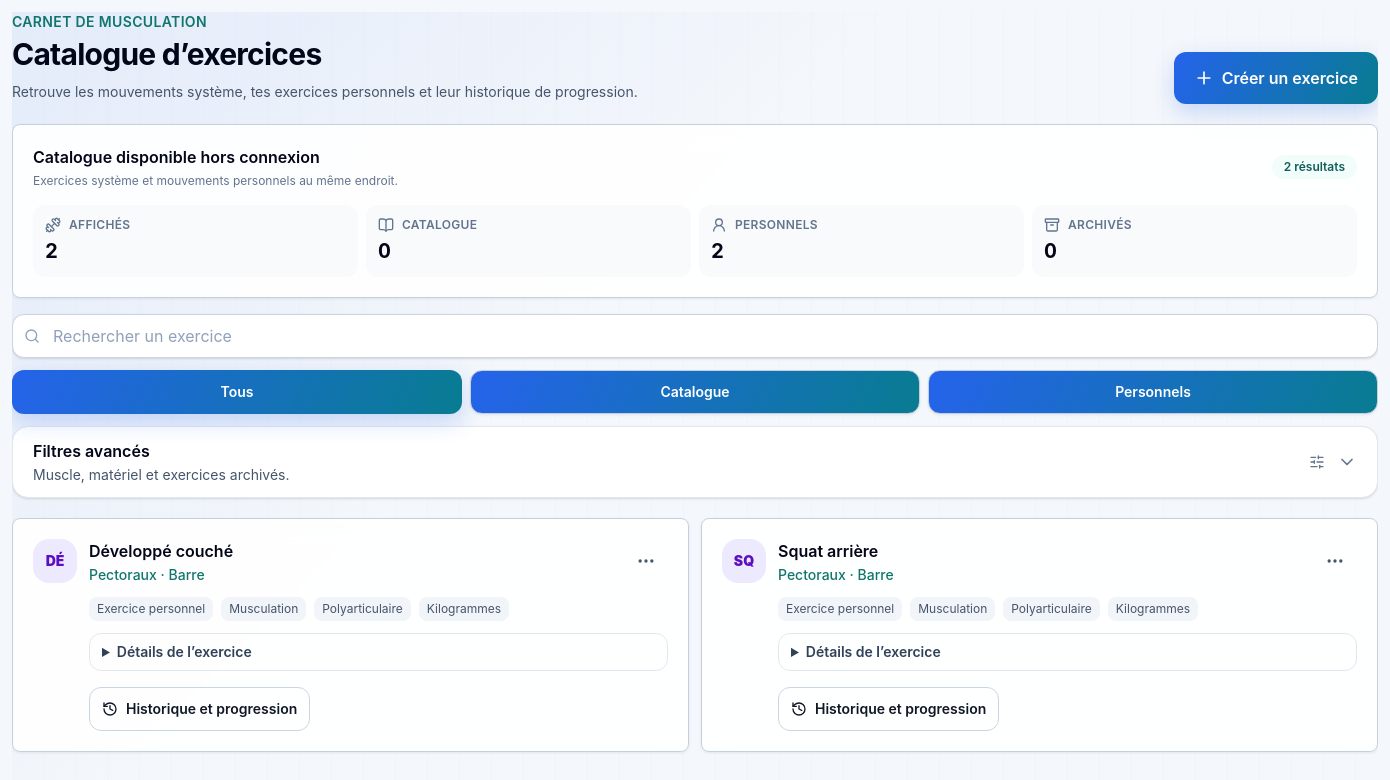
Test: StrengthExercisesPage › conserve le focus pendant la saisie complète de la recherche
This screenshot has width=1390, height=780.
Type "squat" into the search field labelled "Rechercher un exercice" at (695, 336), box [12,314,1378,358]
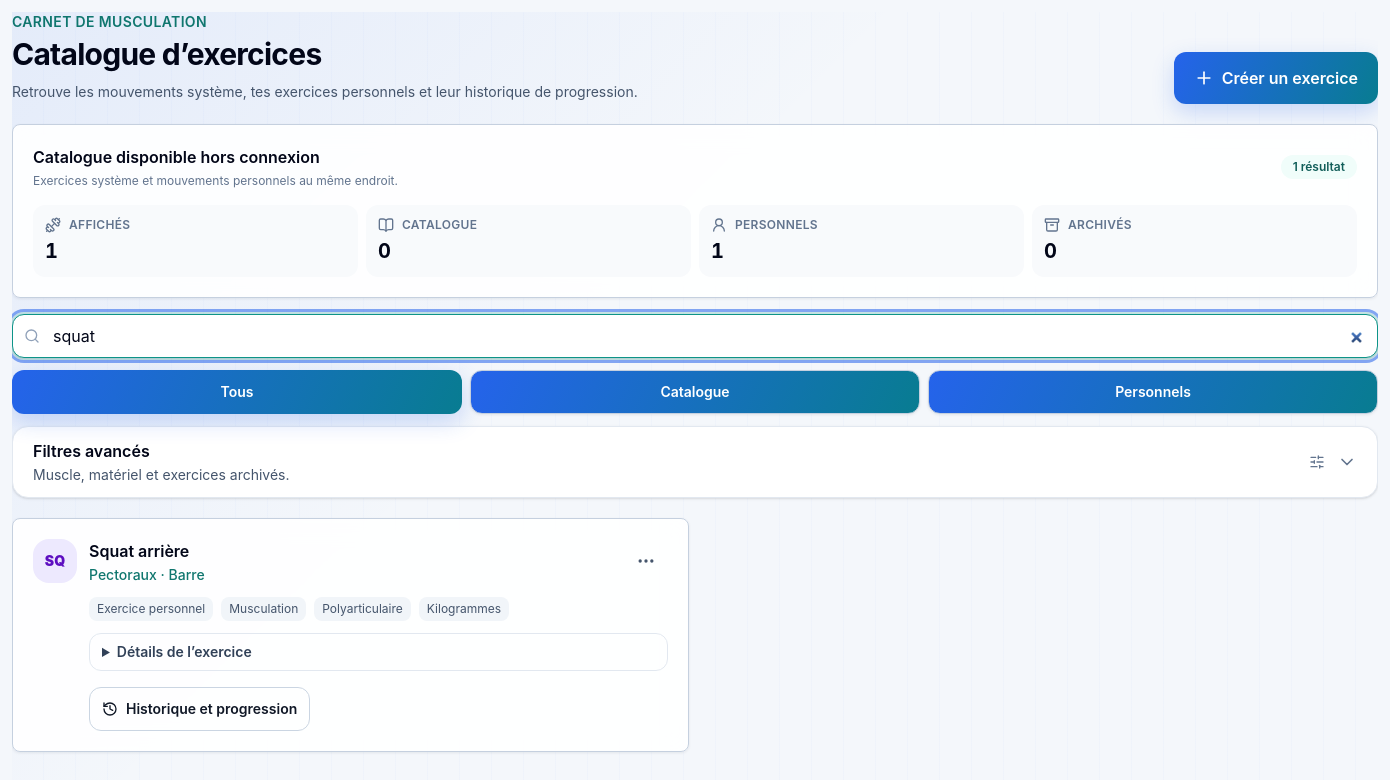
Expected: the heading "Squat arrière" is shown, [89,539,189,563]
Expected: the heading "Développé couché" is gone
